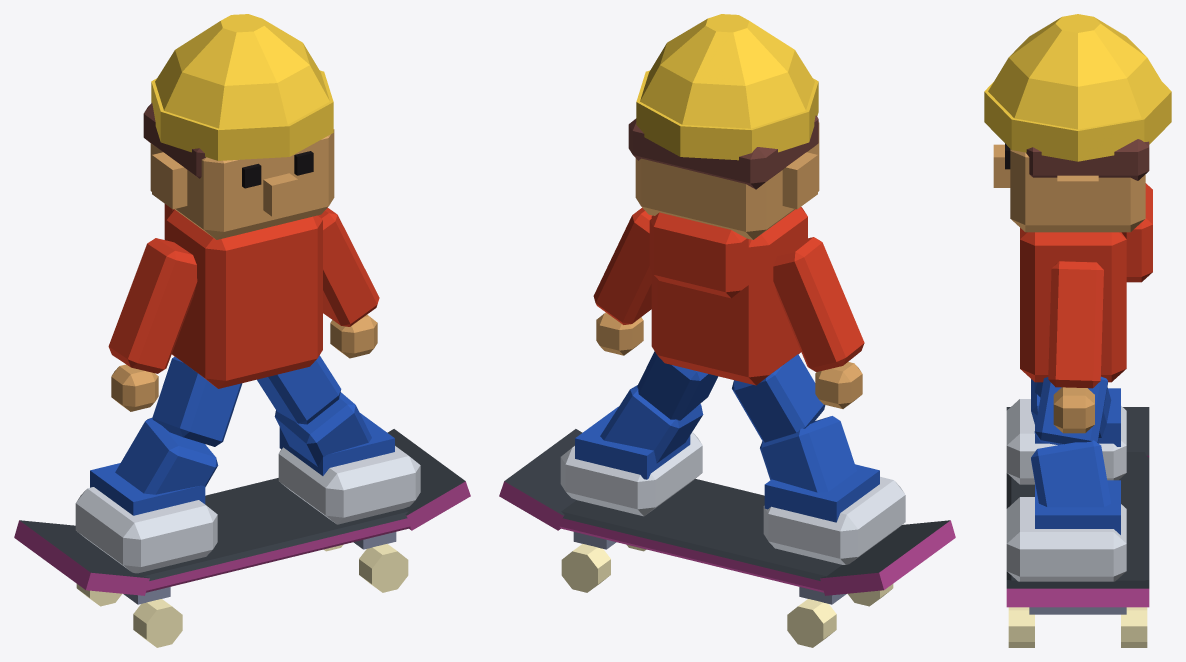
Rendered from skater.glb.
The picture shows the model from 3 angles, left to right: view 1: azimuth 30°, elevation 25°; view 2: azimuth 150°, elevation 25°; view 3: azimuth 270°, elevation 25°; orthographic projection.
Parts seen in each view (by area): view 1: Torso, Deck, Head, ShoeB, ArmB, Dome, ShoeF, Crown, Rim, ShinB, Tail, ThighB (+13 smaller); view 2: Torso, Deck, Head, ArmB, Dome, Crown, ShoeB, Hood, Rim, ShoeF, ShinB, Tail (+13 smaller); view 3: Torso, Dome, ShoeF, Crown, ArmF, Head, Rim, ShinF, NoseKick, Deck, ShoeB, Hair (+12 smaller).
Boxes of the visible parts, x1,y1,x2,y2 form: Torso: (166,209,322,388); Deck: (139,478,411,592); Head: (150,129,334,239); ShoeB: (75,487,217,573); ArmB: (108,238,197,373); Dome: (155,43,329,128); ShoeF: (278,446,420,524); Crown: (175,14,309,85); Rim: (151,70,333,160); ShinB: (115,418,218,494); Tail: (14,520,149,595); ThighB: (152,356,242,446); Torso: (651,207,807,385); Deck: (558,479,841,592); Head: (635,122,819,239); ArmB: (773,237,864,371); Dome: (640,43,814,128); Crown: (660,14,794,85); ShoeB: (763,476,905,564); Hood: (649,212,748,298); Rim: (636,70,818,160); ShoeF: (560,432,702,516); ShinB: (760,416,856,492); Tail: (820,520,955,595); Torso: (1020,228,1126,382); Dome: (988,57,1167,129); ShoeF: (1006,497,1126,581); Crown: (1009,14,1146,86); ArmF: (1048,261,1103,388); Head: (1010,149,1145,232); Rim: (984,82,1171,161); ShinF: (1031,440,1111,507); NoseKick: (1006,580,1149,607); Deck: (1006,452,1149,580); ShoeB: (1006,399,1126,484); Hair: (1026,139,1149,180).
Size of the model in its own units: 1.18 by 1.67 by 0.5.
